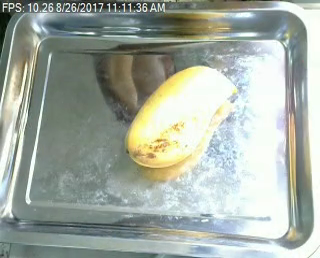Mango: (125, 62, 240, 167)
